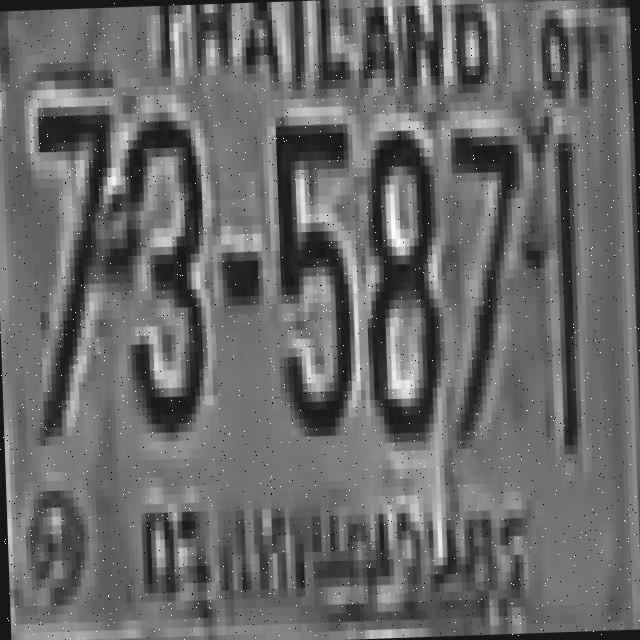3: (113, 102, 205, 425)
5: (271, 115, 353, 428)
7: (31, 100, 122, 432), (445, 122, 523, 435)
8: (356, 121, 438, 434)
Bangkok: (128, 466, 542, 640)
